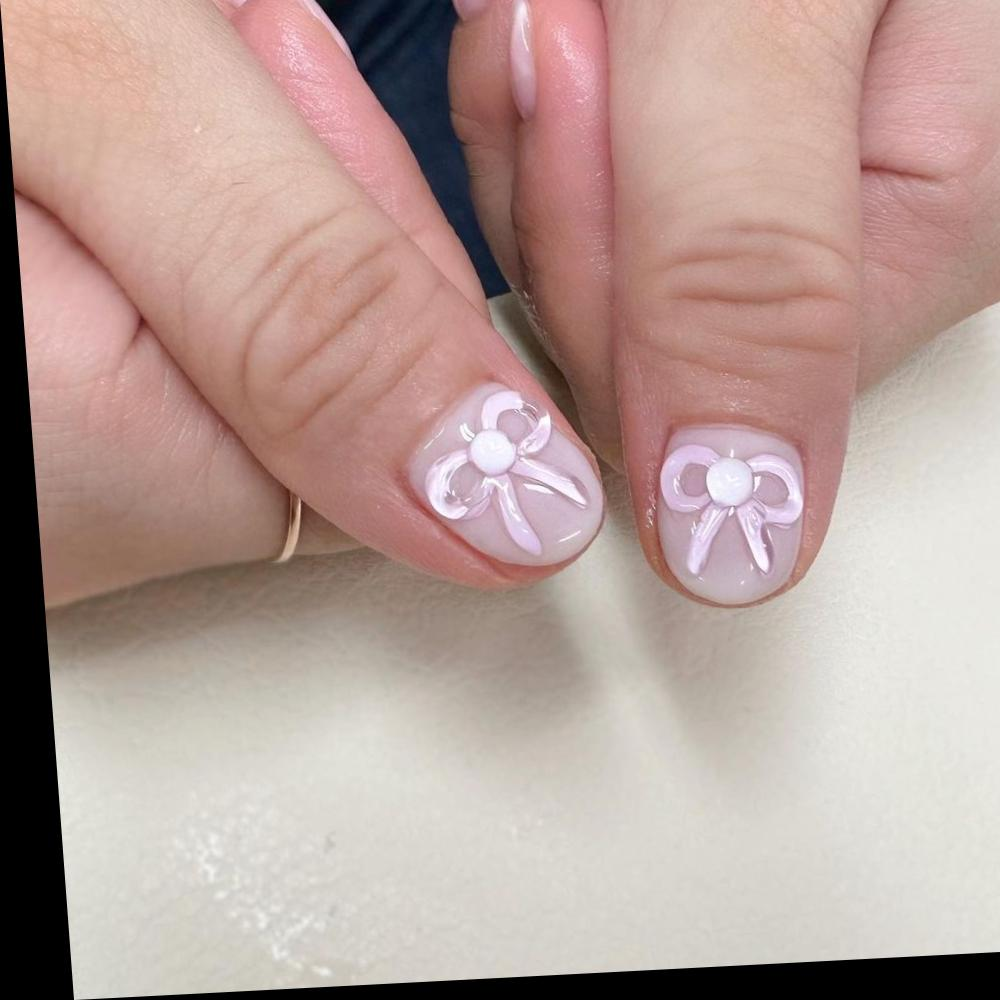nail: (401, 375, 612, 579), (650, 415, 816, 601)
